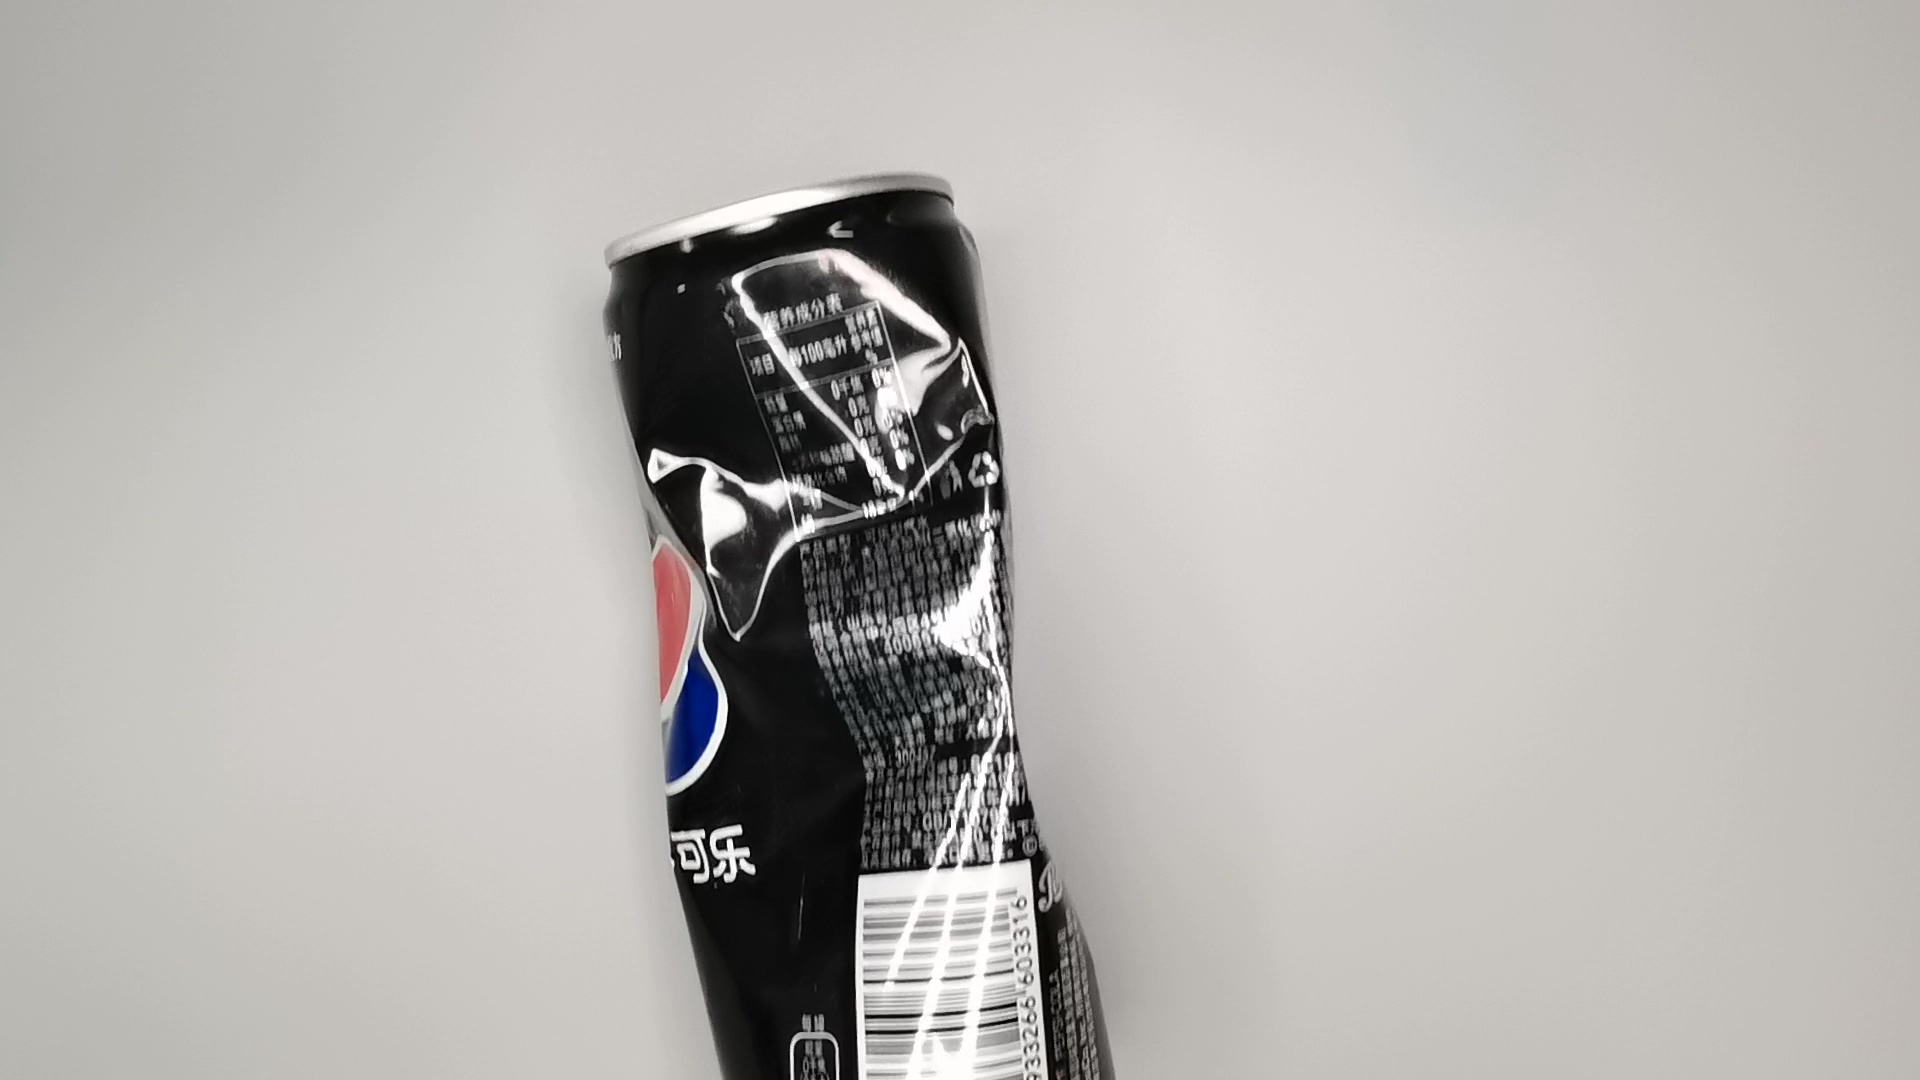can: (607, 160, 1156, 1080)
